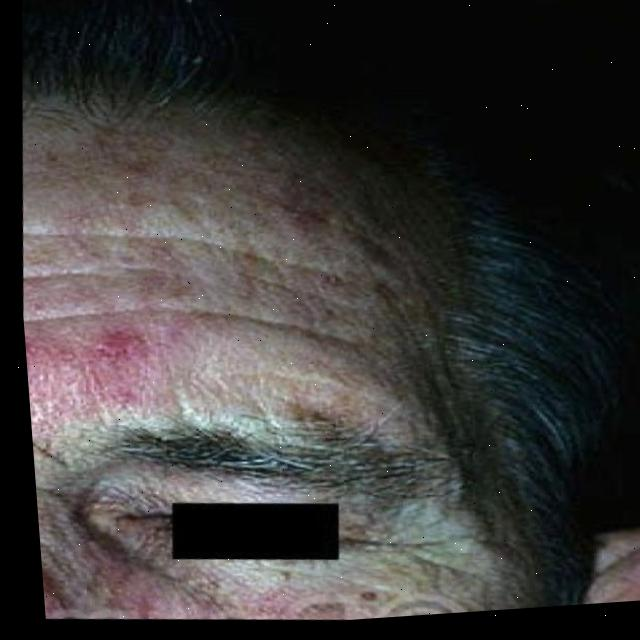Rosacea: (25, 329, 151, 427)
